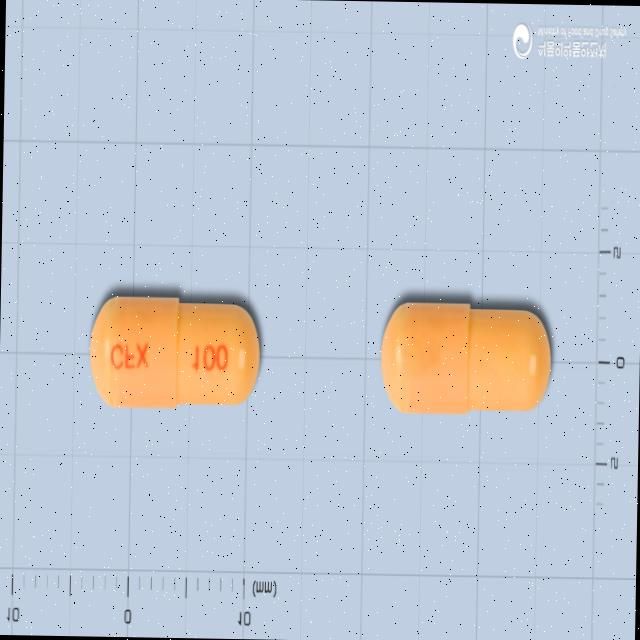Kukje Cefixime Cap: (89, 295, 261, 412)
